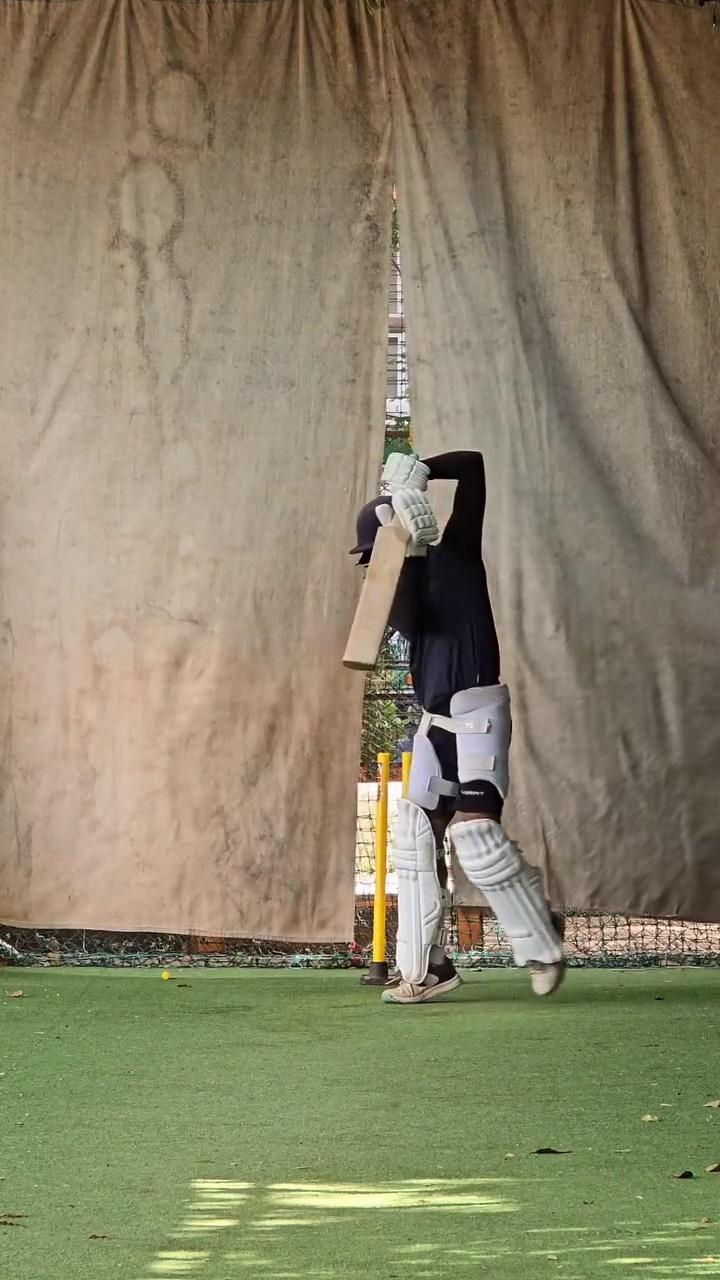bat: (339, 521, 413, 677)
